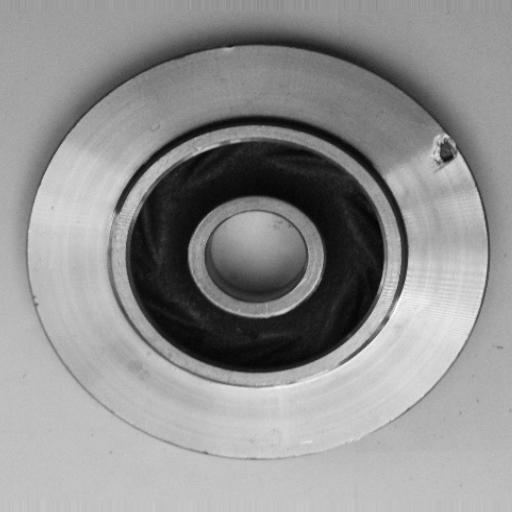crack: (419, 121, 470, 181)
unpolished_casting: (23, 38, 492, 465)
